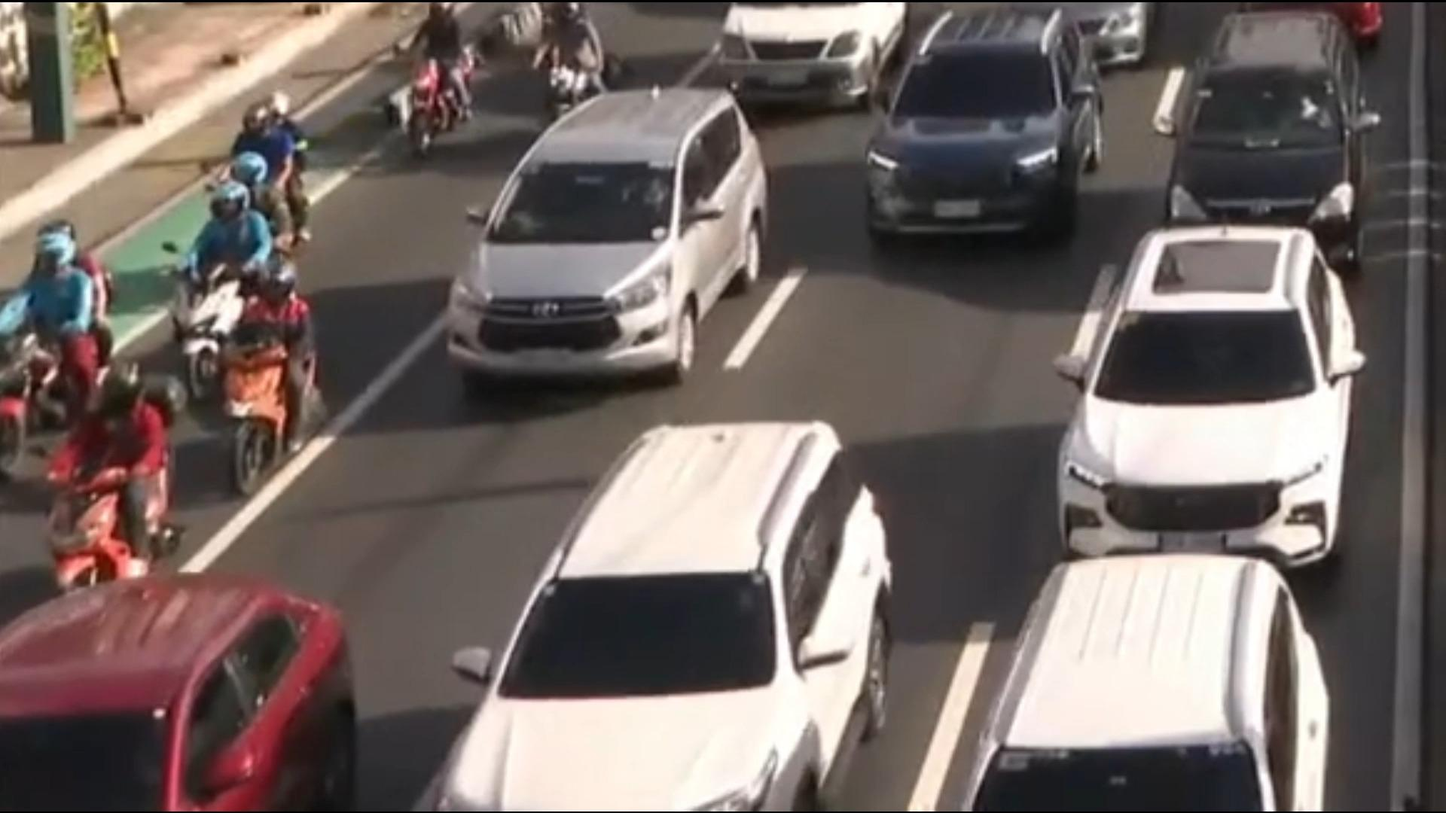Motorcycle: (33, 356, 207, 583), (204, 241, 349, 509), (147, 172, 322, 384), (0, 217, 127, 440), (228, 78, 349, 261), (388, 0, 494, 170), (513, 0, 618, 158)
SUV: (414, 390, 923, 813), (997, 206, 1401, 565), (929, 505, 1362, 813), (423, 66, 787, 417), (833, 0, 1131, 251), (1137, 14, 1379, 267)
Sedan: (0, 524, 381, 813)
